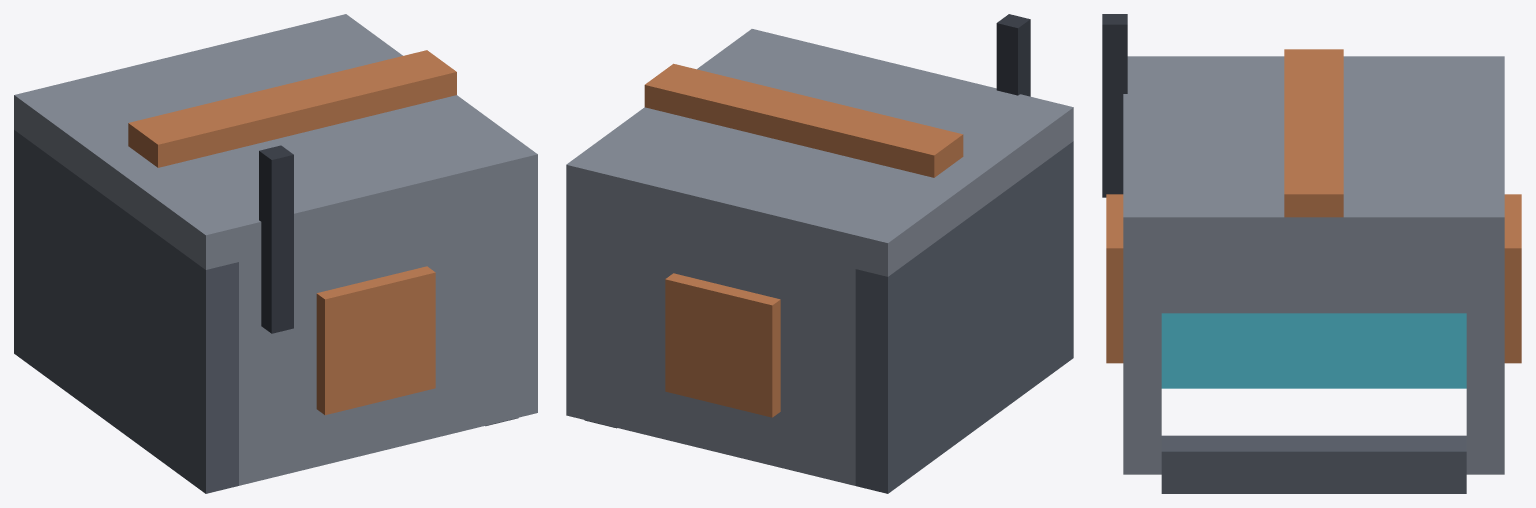
The model's file is armor_helmet.glb.
3 renders of one model, left to right at view 1: azimuth 30°, elevation 25°; view 2: azimuth 150°, elevation 25°; view 3: azimuth 270°, elevation 25°, orthographic. The views are drawn at different scales.
Parts seen in each view (by area): view 1: head; view 2: head; view 3: head.
Part boxes in pixels (x1,y1,x2,y2): head: (14, 14, 537, 493); head: (566, 14, 1073, 493); head: (1102, 14, 1521, 493).
Size of the model in its own units: 0.5625 by 0.5625 by 0.6187.
